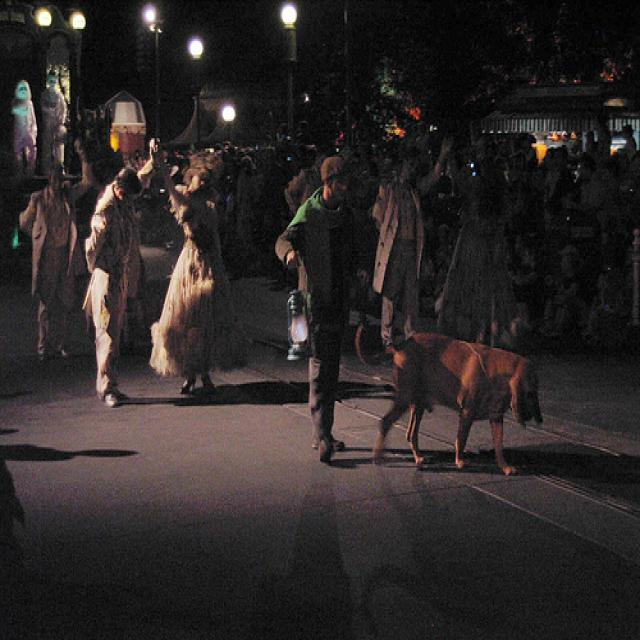Dog: (360, 316, 550, 501)
